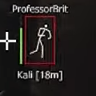hacks_3: (11, 4, 69, 81)
